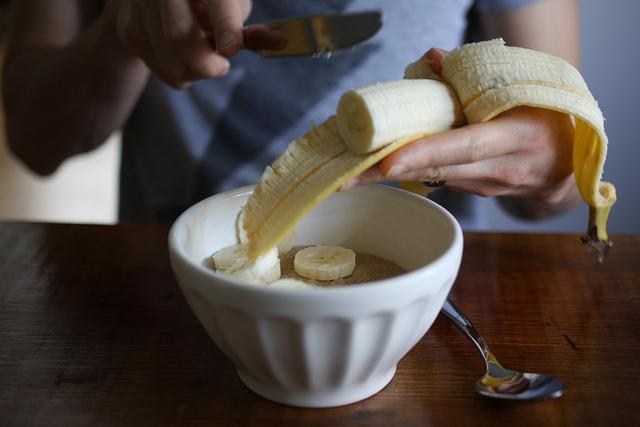hand: (379, 98, 587, 225), (116, 3, 262, 100)
